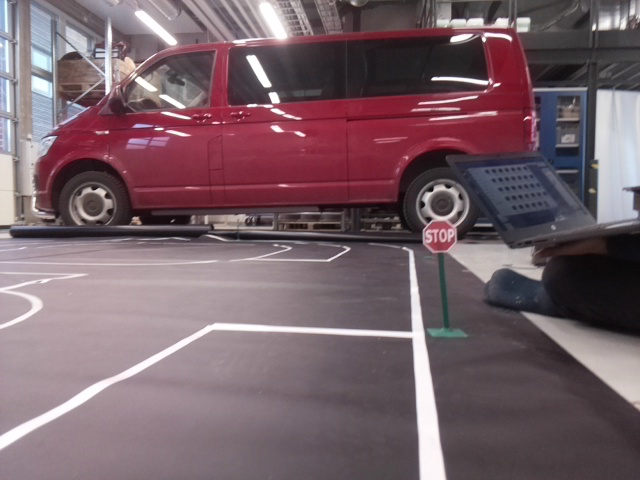Stop: (422, 218, 456, 251)
